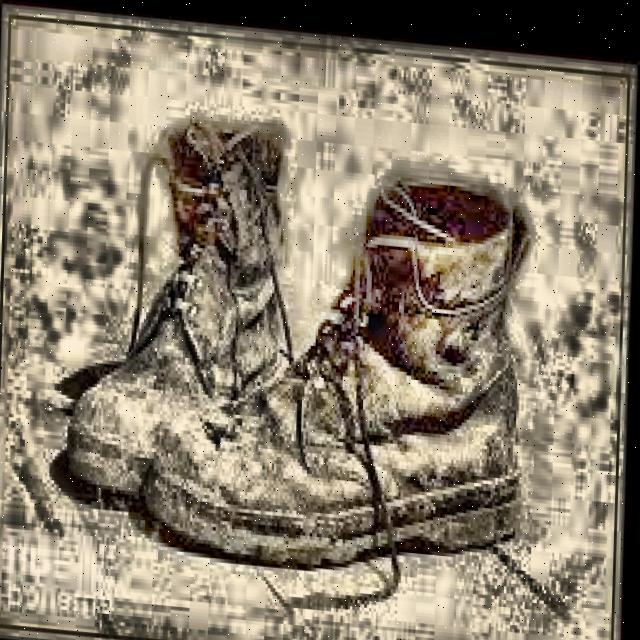shoes: (52, 68, 560, 598)
